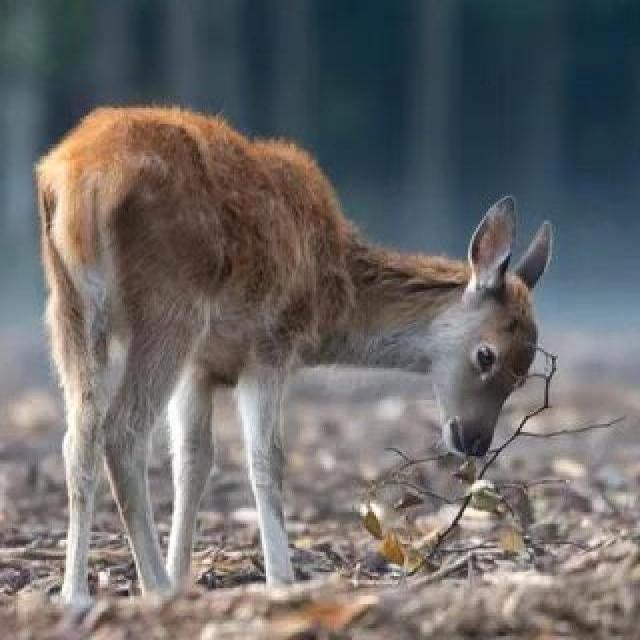deer: (66, 79, 548, 524)
